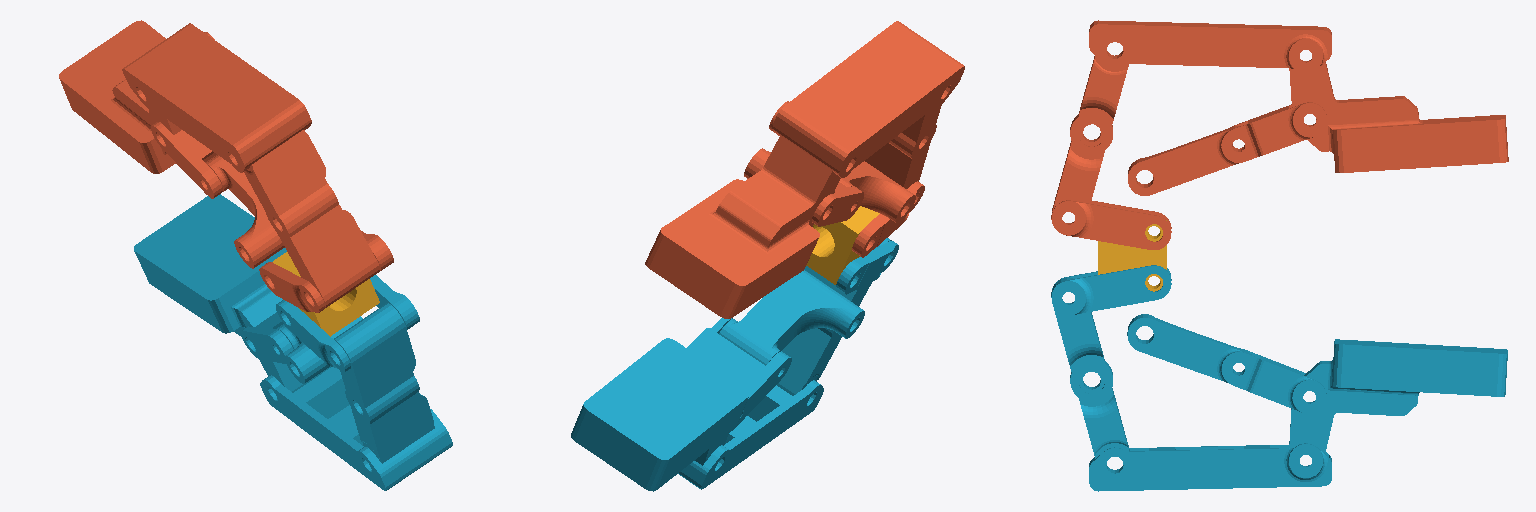
robot.urdf — adaptive_gripper_preview:
<?xml version='1.0' encoding='utf-8'?>
<robot name="adaptive_gripper_preview">
  <link name="gripper">
    <inertial>
      <origin xyz="-5.2809570660339e-06 -0.0028472612426801 -0.00012798006247315" rpy="-1.2295285164861e-09 -0.8073483958801 1.0329738076366e-09" />
      <mass value="0.35218616" />
      <inertia ixx="0.00017781" ixy="-5.818E-05" ixz="7.205E-05" iyy="0.00024068" iyz="3.354E-05" izz="0.00022588" />
    </inertial>
    <visual>
      <origin xyz="0.16586133531753 0.15057273884674 0.076827644210076" rpy="-1.2295285164861e-09 -0.8073483958801 1.0329738076366e-09" />
      <geometry>
        <mesh filename="package://pallet/meshes/mass_revised/gripper.STL" />
      </geometry>
      <material name="">
        <color rgba="0.89412 0.89412 0.89412 1" />
      </material>
    </visual>
    <collision>
      <origin xyz="0.16586133531753 0.15057273884674 0.076827644210076" rpy="-1.2295285164861e-09 -0.8073483958801 1.0329738076366e-09" />
      <geometry>
        <mesh filename="package://pallet/meshes/mass_revised/gripper.STL" />
      </geometry>
    </collision>
  </link>
  <!--Visual kinematic reconstruction only. No measured split inertias, physical effort/velocity limits, contact law or actuator interface.-->
  <link name="preview_view" />
  <joint name="preview_view_joint" type="fixed">
    <parent link="gripper" />
    <child link="preview_view" />
    <origin xyz="0 0 0" rpy="-1.5707963267948966 -0.39269908169872414 0" />
  </joint>
  <link name="adaptive_frame" />
  <link name="move_gripper">
    <inertial>
      <origin xyz="-3.5613040225702e-06 0.0080027382199954 -1.5628113537447e-06" rpy="8.3615931554405e-09 -0.80734837208628 3.5027528945423e-09" />
      <mass value="0.027" />
      <inertia ixx="1.3E-06" ixy="5E-08" ixz="6E-08" iyy="1.27E-06" iyz="0" izz="1.28E-06" />
    </inertial>
    <visual>
      <origin xyz="-0.0075071007659241 0.15057273709249 0.18263656249944" rpy="8.3615931554405e-09 -0.80734837208628 3.5027528945423e-09" />
      <geometry>
        <mesh filename="package://pallet/meshes/mass_revised/move_gripper.STL" />
      </geometry>
      <material name="adaptive_nut">
        <color rgba="0.96 0.71 0.20 1" />
      </material>
    </visual>
    <collision>
      <origin xyz="-0.0075071007659241 0.15057273709249 0.18263656249944" rpy="8.3615931554405e-09 -0.80734837208628 3.5027528945423e-09" />
      <geometry>
        <mesh filename="package://pallet/meshes/mass_revised/move_gripper.STL" />
      </geometry>
    </collision>
  </link>
  <joint name="adaptive_frame_joint" type="fixed">
    <parent link="gripper" />
    <child link="adaptive_frame" />
    <origin xyz="0 0.0299209524500723 0" rpy="0 1.17809724509618 0" />
  </joint>
  <joint name="g2" type="prismatic">
    <parent link="gripper" />
    <child link="move_gripper" />
    <origin xyz="0 0.0299209524500723 0" rpy="0 1.17809724509618 0" />
    <axis xyz="0 1 0" />
    <limit lower="-0.0023709343700000006" upper="0.005629065629999999" effort="1" velocity="0.1" />
  </joint>
  <link name="r_rocker_link">
    <visual>
      <geometry>
        <mesh filename="package://pallet/meshes/adaptive_gripper/r_6.stl" />
      </geometry>
      <material name="adaptive_r">
        <color rgba="0.91 0.43 0.29 1" />
      </material>
    </visual>
    <collision>
      <geometry>
        <mesh filename="package://pallet/meshes/adaptive_gripper/r_6.stl" />
      </geometry>
    </collision>
  </link>
  <joint name="r_rocker" type="revolute">
    <parent link="adaptive_frame" />
    <child link="r_rocker_link" />
    <origin xyz="-0.02849998755696433 -0.001370978712394774 0" rpy="0 0 0" />
    <axis xyz="0 0 1" />
    <limit lower="-2.4" upper="2.4" effort="1" velocity="0.1" />
  </joint>
  <link name="r_helper_link">
    <visual>
      <geometry>
        <mesh filename="package://pallet/meshes/adaptive_gripper/r_4.stl" />
      </geometry>
      <material name="adaptive_r">
        <color rgba="0.91 0.43 0.29 1" />
      </material>
    </visual>
    <collision>
      <geometry>
        <mesh filename="package://pallet/meshes/adaptive_gripper/r_4.stl" />
      </geometry>
    </collision>
    <visual>
      <geometry>
        <mesh filename="package://pallet/meshes/adaptive_gripper/r_5.stl" />
      </geometry>
      <material name="adaptive_r">
        <color rgba="0.91 0.43 0.29 1" />
      </material>
    </visual>
    <collision>
      <geometry>
        <mesh filename="package://pallet/meshes/adaptive_gripper/r_5.stl" />
      </geometry>
    </collision>
  </link>
  <joint name="r_helper" type="revolute">
    <parent link="move_gripper" />
    <child link="r_helper_link" />
    <origin xyz="-0.005749988395356924 0.01299995908136959 0" rpy="0 0 0" />
    <axis xyz="0 0 1" />
    <limit lower="-2.4" upper="2.4" effort="1" velocity="0.1" />
  </joint>
  <link name="r_outer_link">
    <visual>
      <geometry>
        <mesh filename="package://pallet/meshes/adaptive_gripper/r_2.stl" />
      </geometry>
      <material name="adaptive_r">
        <color rgba="0.91 0.43 0.29 1" />
      </material>
    </visual>
    <collision>
      <geometry>
        <mesh filename="package://pallet/meshes/adaptive_gripper/r_2.stl" />
      </geometry>
    </collision>
  </link>
  <joint name="r_outer" type="revolute">
    <parent link="r_rocker_link" />
    <child link="r_outer_link" />
    <origin xyz="-0.01927797673291352 0.005325379735317867 0" rpy="0 0 0" />
    <axis xyz="0 0 1" />
    <limit lower="-2.4" upper="2.4" effort="1" velocity="0.1" />
  </joint>
  <link name="r_pad_link">
    <visual>
      <geometry>
        <mesh filename="package://pallet/meshes/adaptive_gripper/r_yoke.stl" />
      </geometry>
      <material name="adaptive_r">
        <color rgba="0.91 0.43 0.29 1" />
      </material>
    </visual>
    <collision>
      <geometry>
        <mesh filename="package://pallet/meshes/adaptive_gripper/r_yoke.stl" />
      </geometry>
    </collision>
  </link>
  <joint name="r_pad" type="revolute">
    <parent link="r_outer_link" />
    <child link="r_pad_link" />
    <origin xyz="0.001205812284263301 0.04398347417040727 0" rpy="0 0 0" />
    <axis xyz="0 0 1" />
    <limit lower="-2.4" upper="2.4" effort="1" velocity="0.1" />
  </joint>
  <link name="r_wrist_link">
    <visual>
      <geometry>
        <mesh filename="package://pallet/meshes/adaptive_gripper/r_contact_pad.stl" />
      </geometry>
      <material name="adaptive_r">
        <color rgba="0.91 0.43 0.29 1" />
      </material>
    </visual>
    <collision>
      <geometry>
        <mesh filename="package://pallet/meshes/adaptive_gripper/r_contact_pad.stl" />
      </geometry>
    </collision>
  </link>
  <joint name="r_wrist" type="revolute">
    <parent link="r_pad_link" />
    <child link="r_wrist_link" />
    <origin xyz="0.01473389247159265 0.0009535416012521405 0" rpy="0 0 0" />
    <axis xyz="0 0 1" />
    <limit lower="-2.4" upper="2.4" effort="1" velocity="0.1" />
  </joint>
  <link name="r_inner_lower_link">
    <visual>
      <geometry>
        <mesh filename="package://pallet/meshes/adaptive_gripper/r_3.stl" />
      </geometry>
      <material name="adaptive_r">
        <color rgba="0.91 0.43 0.29 1" />
      </material>
    </visual>
    <collision>
      <geometry>
        <mesh filename="package://pallet/meshes/adaptive_gripper/r_3.stl" />
      </geometry>
    </collision>
  </link>
  <joint name="r_inner_lower" type="revolute">
    <parent link="adaptive_frame" />
    <child link="r_inner_lower_link" />
    <origin xyz="-0.01799998750512161 0.01082902149690609 0" rpy="0 0 0" />
    <axis xyz="0 0 1" />
    <limit lower="-2.4" upper="2.4" effort="1" velocity="0.1" />
  </joint>
  <link name="r_inner_upper_link">
    <visual>
      <geometry>
        <mesh filename="package://pallet/meshes/adaptive_gripper/r_1.stl" />
      </geometry>
      <material name="adaptive_r">
        <color rgba="0.91 0.43 0.29 1" />
      </material>
    </visual>
    <collision>
      <geometry>
        <mesh filename="package://pallet/meshes/adaptive_gripper/r_1.stl" />
      </geometry>
    </collision>
  </link>
  <joint name="r_inner_upper" type="revolute">
    <parent link="r_inner_lower_link" />
    <child link="r_inner_upper_link" />
    <origin xyz="-0.007822162865883209 0.0216290017281906 0" rpy="0 0 0" />
    <axis xyz="0 0 1" />
    <limit lower="-2.4" upper="2.4" effort="1" velocity="0.1" />
  </joint>
  <link name="l_rocker_link">
    <visual>
      <geometry>
        <mesh filename="package://pallet/meshes/adaptive_gripper/l_6.stl" />
      </geometry>
      <material name="adaptive_l">
        <color rgba="0.18 0.68 0.81 1" />
      </material>
    </visual>
    <collision>
      <geometry>
        <mesh filename="package://pallet/meshes/adaptive_gripper/l_6.stl" />
      </geometry>
    </collision>
  </link>
  <joint name="l_rocker" type="revolute">
    <parent link="adaptive_frame" />
    <child link="l_rocker_link" />
    <origin xyz="0.0284999877091221 -0.001370978646295075 0" rpy="0 0 0" />
    <axis xyz="0 0 1" />
    <limit lower="-2.4" upper="2.4" effort="1" velocity="0.1" />
  </joint>
  <link name="l_helper_link">
    <visual>
      <geometry>
        <mesh filename="package://pallet/meshes/adaptive_gripper/l_4.stl" />
      </geometry>
      <material name="adaptive_l">
        <color rgba="0.18 0.68 0.81 1" />
      </material>
    </visual>
    <collision>
      <geometry>
        <mesh filename="package://pallet/meshes/adaptive_gripper/l_4.stl" />
      </geometry>
    </collision>
    <visual>
      <geometry>
        <mesh filename="package://pallet/meshes/adaptive_gripper/l_5.stl" />
      </geometry>
      <material name="adaptive_l">
        <color rgba="0.18 0.68 0.81 1" />
      </material>
    </visual>
    <collision>
      <geometry>
        <mesh filename="package://pallet/meshes/adaptive_gripper/l_5.stl" />
      </geometry>
    </collision>
  </link>
  <joint name="l_helper" type="revolute">
    <parent link="move_gripper" />
    <child link="l_helper_link" />
    <origin xyz="0.005749987188459985 0.01299995927413552 0" rpy="0 0 0" />
    <axis xyz="0 0 1" />
    <limit lower="-2.4" upper="2.4" effort="1" velocity="0.1" />
  </joint>
  <link name="l_outer_link">
    <visual>
      <geometry>
        <mesh filename="package://pallet/meshes/adaptive_gripper/l_2.stl" />
      </geometry>
      <material name="adaptive_l">
        <color rgba="0.18 0.68 0.81 1" />
      </material>
    </visual>
    <collision>
      <geometry>
        <mesh filename="package://pallet/meshes/adaptive_gripper/l_2.stl" />
      </geometry>
    </collision>
  </link>
  <joint name="l_outer" type="revolute">
    <parent link="l_rocker_link" />
    <child link="l_outer_link" />
    <origin xyz="0.0192779757866022 0.005325379512702934 0" rpy="0 0 0" />
    <axis xyz="0 0 1" />
    <limit lower="-2.4" upper="2.4" effort="1" velocity="0.1" />
  </joint>
  <link name="l_pad_link">
    <visual>
      <geometry>
        <mesh filename="package://pallet/meshes/adaptive_gripper/l_yoke.stl" />
      </geometry>
      <material name="adaptive_l">
        <color rgba="0.18 0.68 0.81 1" />
      </material>
    </visual>
    <collision>
      <geometry>
        <mesh filename="package://pallet/meshes/adaptive_gripper/l_yoke.stl" />
      </geometry>
    </collision>
  </link>
  <joint name="l_pad" type="revolute">
    <parent link="l_outer_link" />
    <child link="l_pad_link" />
    <origin xyz="-0.000989060498150153 0.0439888825308588 0" rpy="0 0 0" />
    <axis xyz="0 0 1" />
    <limit lower="-2.4" upper="2.4" effort="1" velocity="0.1" />
  </joint>
  <link name="l_wrist_link">
    <visual>
      <geometry>
        <mesh filename="package://pallet/meshes/adaptive_gripper/l_contact_pad.stl" />
      </geometry>
      <material name="adaptive_l">
        <color rgba="0.18 0.68 0.81 1" />
      </material>
    </visual>
    <collision>
      <geometry>
        <mesh filename="package://pallet/meshes/adaptive_gripper/l_contact_pad.stl" />
      </geometry>
    </collision>
  </link>
  <joint name="l_wrist" type="revolute">
    <parent link="l_pad_link" />
    <child link="l_wrist_link" />
    <origin xyz="-0.0147392801157144 0.0008663511275991617 0" rpy="0 0 0" />
    <axis xyz="0 0 1" />
    <limit lower="-2.4" upper="2.4" effort="1" velocity="0.1" />
  </joint>
  <link name="l_inner_lower_link">
    <visual>
      <geometry>
        <mesh filename="package://pallet/meshes/adaptive_gripper/l_3.stl" />
      </geometry>
      <material name="adaptive_l">
        <color rgba="0.18 0.68 0.81 1" />
      </material>
    </visual>
    <collision>
      <geometry>
        <mesh filename="package://pallet/meshes/adaptive_gripper/l_3.stl" />
      </geometry>
    </collision>
  </link>
  <joint name="l_inner_lower" type="revolute">
    <parent link="adaptive_frame" />
    <child link="l_inner_lower_link" />
    <origin xyz="0.01799998774757188 0.01082902152387462 0" rpy="0 0 0" />
    <axis xyz="0 0 1" />
    <limit lower="-2.4" upper="2.4" effort="1" velocity="0.1" />
  </joint>
  <link name="l_inner_upper_link">
    <visual>
      <geometry>
        <mesh filename="package://pallet/meshes/adaptive_gripper/l_1.stl" />
      </geometry>
      <material name="adaptive_l">
        <color rgba="0.18 0.68 0.81 1" />
      </material>
    </visual>
    <collision>
      <geometry>
        <mesh filename="package://pallet/meshes/adaptive_gripper/l_1.stl" />
      </geometry>
    </collision>
  </link>
  <joint name="l_inner_upper" type="revolute">
    <parent link="l_inner_lower_link" />
    <child link="l_inner_upper_link" />
    <origin xyz="0.007711793296710234 0.02166860011980657 0" rpy="0 0 0" />
    <axis xyz="0 0 1" />
    <limit lower="-2.4" upper="2.4" effort="1" velocity="0.1" />
  </joint>
</robot>

--- Facts derived from the render (not from the file) ---
Views: 3 orthographic renders of the robot side by side, from view 1: azimuth 30°, elevation 25°; view 2: azimuth 150°, elevation 25°; view 3: azimuth 270°, elevation 25°.
Model adaptive_gripper_preview with 18 links and 17 joints (14 revolute, 1 prismatic, 2 fixed), rooted at gripper, posed every joint at zero.
Visible links, largest first — view 1: r_outer_link, r_rocker_link, l_rocker_link, l_wrist_link, l_outer_link, r_wrist_link, l_pad_link, l_helper_link, r_inner_lower_link, r_helper_link, r_inner_upper_link, move_gripper (+3 smaller); view 2: r_outer_link, r_wrist_link, l_wrist_link, l_inner_lower_link, l_outer_link, r_pad_link, l_inner_upper_link, l_rocker_link, r_rocker_link, move_gripper, r_inner_lower_link, r_inner_upper_link (+3 smaller); view 3: r_outer_link, l_outer_link, r_wrist_link, l_wrist_link, l_rocker_link, r_rocker_link, r_helper_link, l_helper_link, l_pad_link, l_inner_lower_link, l_inner_upper_link, r_inner_upper_link (+3 smaller).
Boxes of the visible links, x1,y1,x2,y2 form: r_outer_link: [122, 23, 311, 172]; r_rocker_link: [244, 130, 379, 307]; l_rocker_link: [334, 303, 434, 463]; l_wrist_link: [134, 194, 254, 335]; l_outer_link: [260, 367, 452, 490]; r_wrist_link: [59, 20, 165, 166]; l_pad_link: [202, 248, 330, 392]; l_helper_link: [276, 275, 419, 372]; r_inner_lower_link: [206, 155, 284, 268]; r_helper_link: [259, 231, 393, 312]; r_inner_upper_link: [151, 122, 222, 198]; move_gripper: [273, 252, 379, 336]; r_outer_link: [769, 21, 964, 177]; r_wrist_link: [645, 175, 812, 318]; l_wrist_link: [571, 345, 741, 491]; l_inner_lower_link: [719, 270, 864, 365]; l_outer_link: [678, 380, 823, 489]; r_pad_link: [729, 135, 840, 273]; l_inner_upper_link: [687, 318, 791, 425]; l_rocker_link: [777, 238, 891, 395]; r_rocker_link: [865, 104, 941, 188]; move_gripper: [806, 206, 879, 284]; r_inner_lower_link: [839, 161, 915, 222]; r_inner_upper_link: [744, 148, 863, 226]; r_outer_link: [1089, 20, 1331, 73]; l_outer_link: [1089, 443, 1331, 491]; r_wrist_link: [1352, 96, 1508, 171]; l_wrist_link: [1352, 340, 1507, 415]; l_rocker_link: [1051, 277, 1129, 472]; r_rocker_link: [1051, 50, 1128, 223]; r_helper_link: [1051, 200, 1171, 249]; l_helper_link: [1051, 265, 1171, 315]; l_pad_link: [1289, 339, 1355, 466]; l_inner_lower_link: [1127, 314, 1251, 382]; l_inner_upper_link: [1222, 348, 1326, 414]; r_inner_upper_link: [1221, 102, 1326, 162].
Bounding box of the posed robot: 0.0597 × 0.1053 × 0.1071 m (x, y, z).
17 mesh visuals loaded from 18 distinct referenced files (17 binary STL); not drawn: 1 (reference not matched to a file when rendering).
